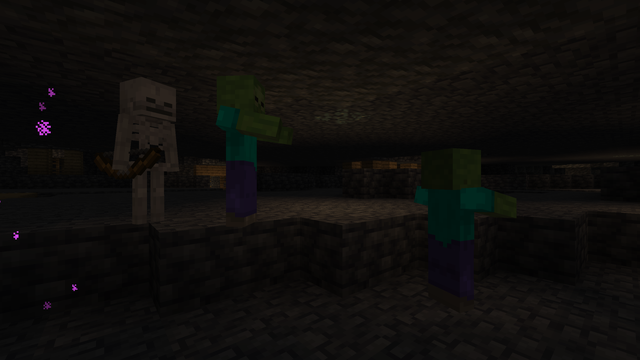squelettes: (121, 74, 175, 226)
zombies: (416, 151, 482, 319), (213, 73, 271, 228)
